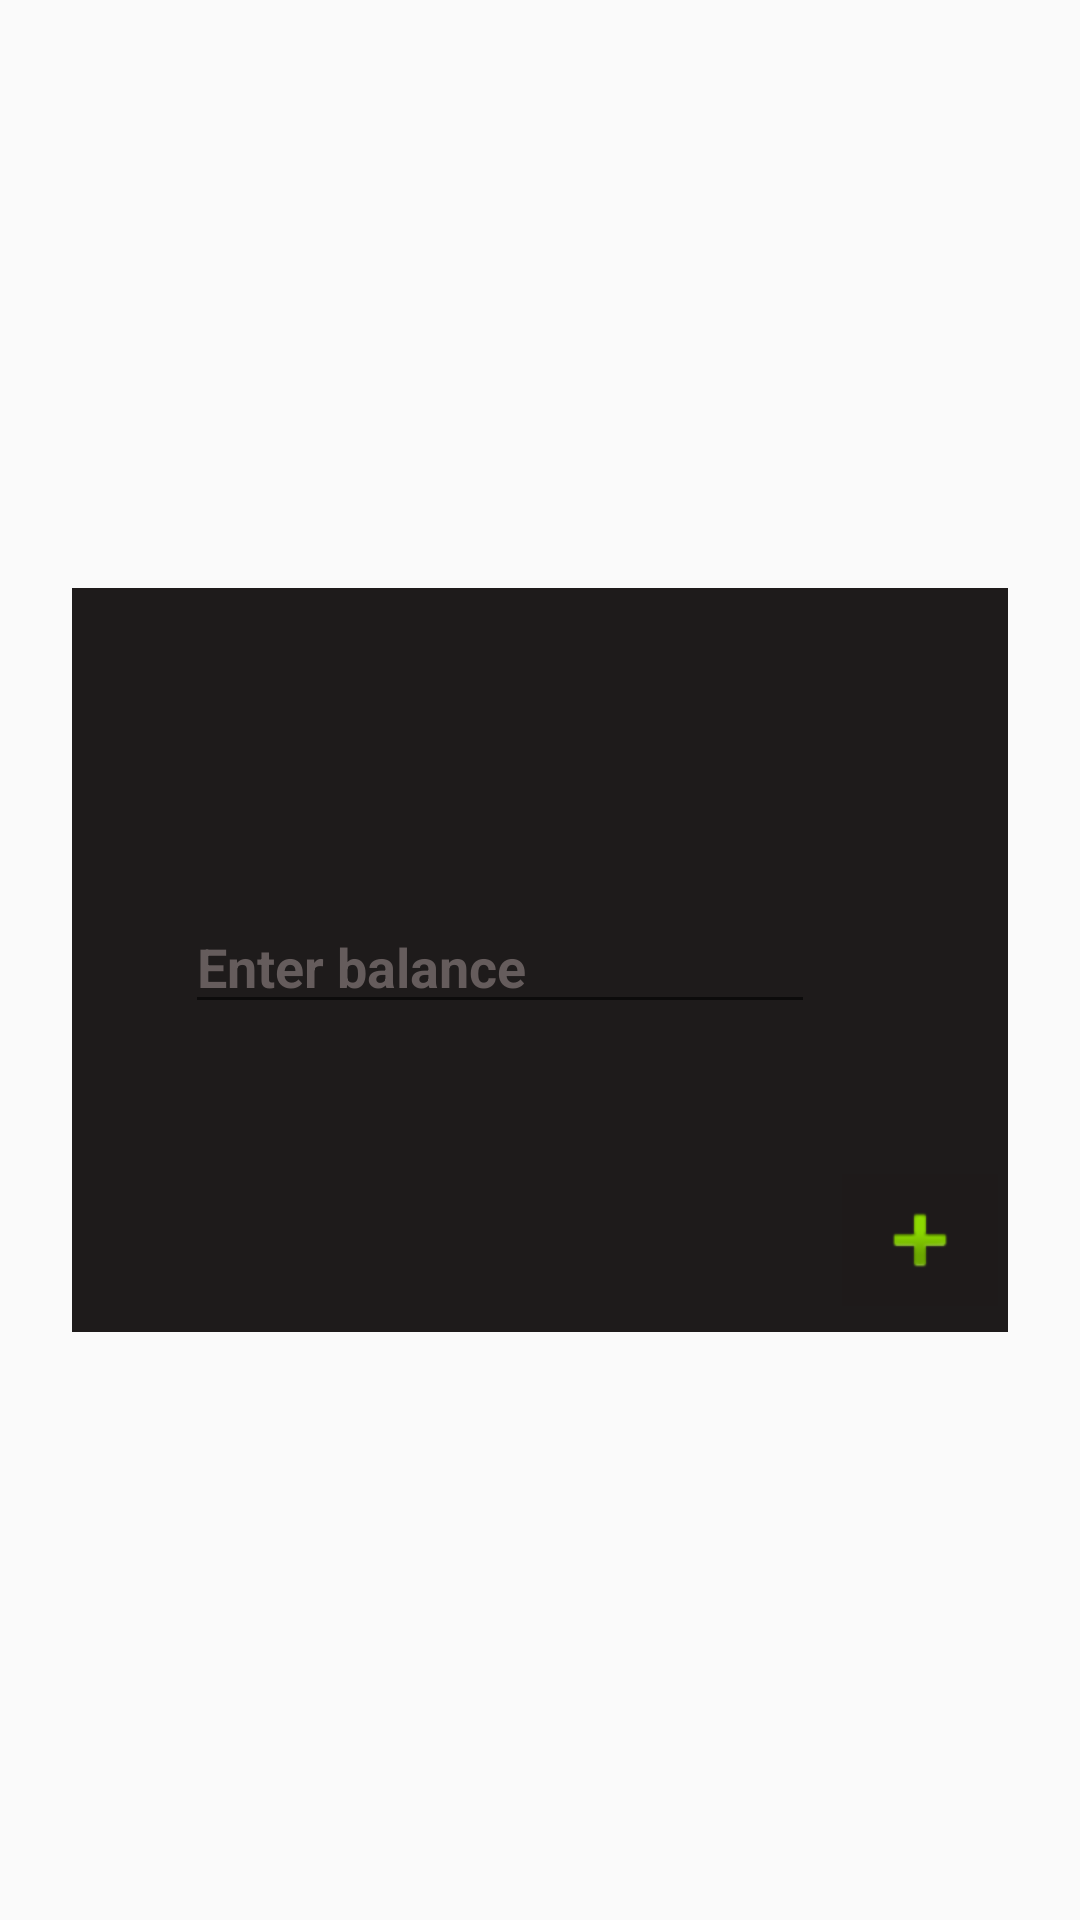

Locate icon controls on the screen. Image size 1080×1920, boxes as box=[x1, y1, x2, y2].
add: box=[893, 1213, 947, 1267]
